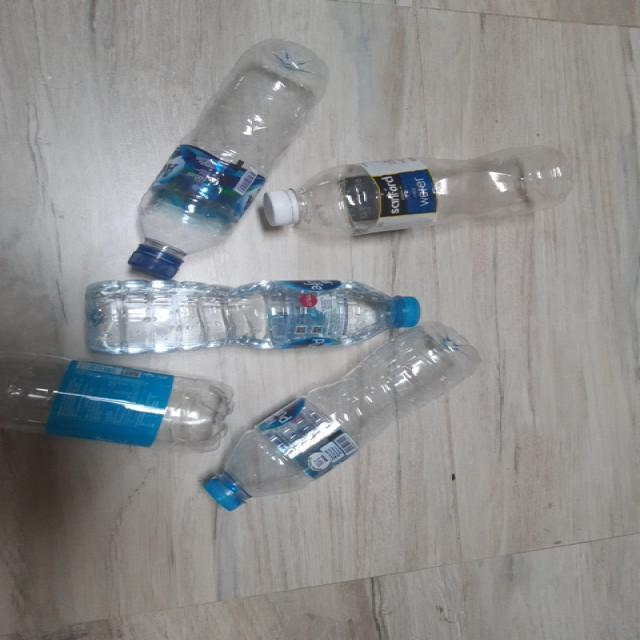PET Bottle: (93, 23, 362, 309), (181, 307, 502, 528), (256, 142, 583, 256), (4, 345, 244, 471), (79, 276, 425, 347)
